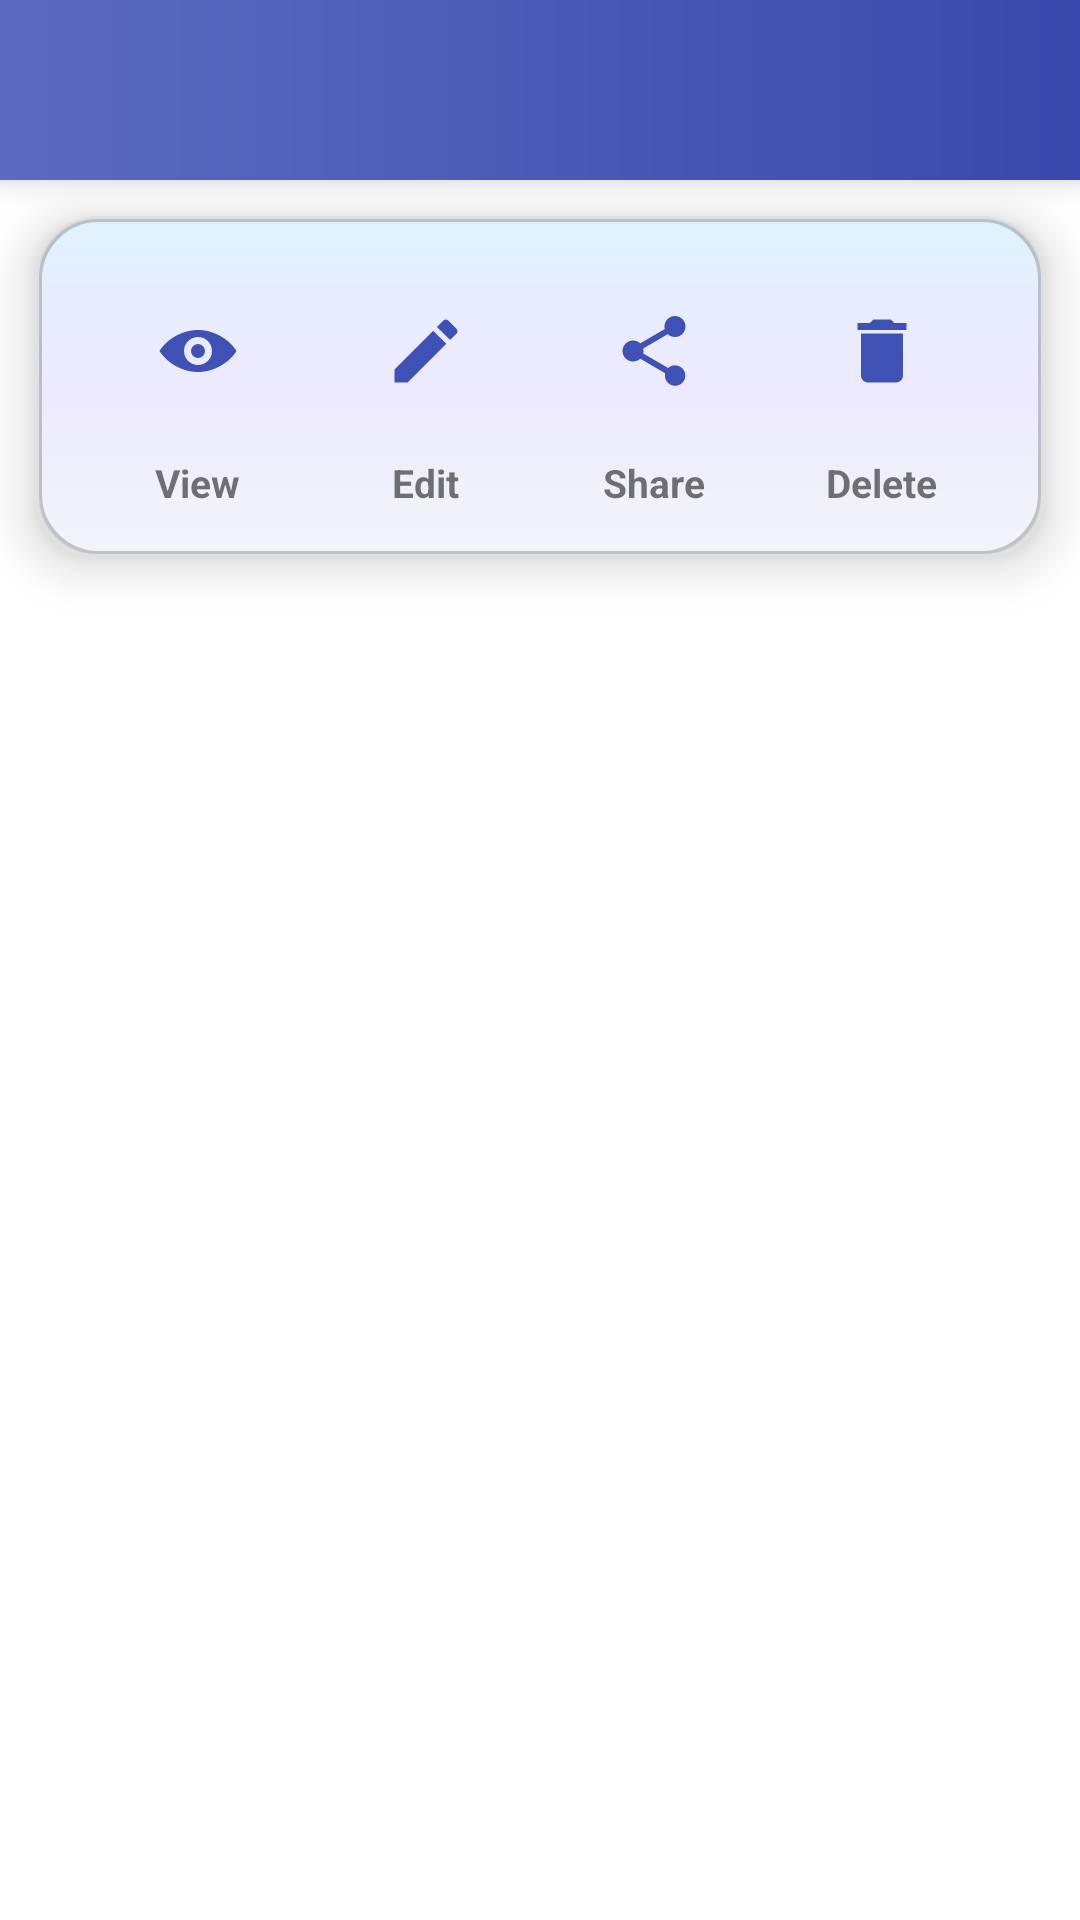

Icon click points for this 1080px x 1920px phone screenshot, format (x=x, y=y):
visibility: (x=198, y=351)
